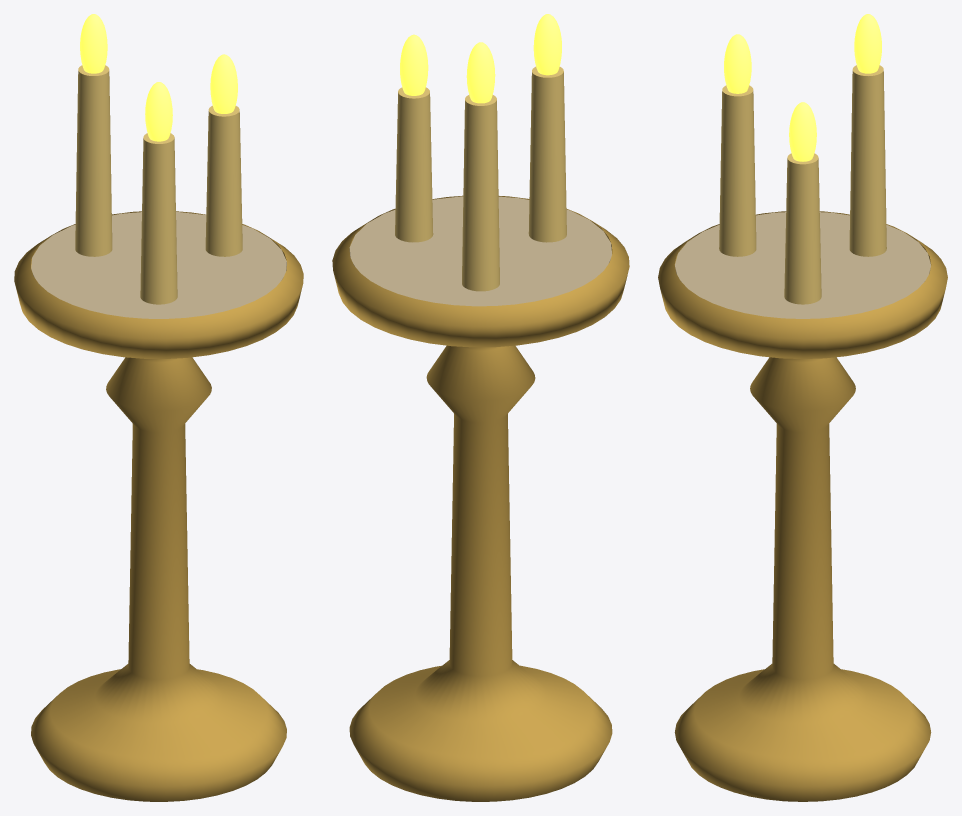
The model's file is candle-stand.glb.
3 views of the same model, side by side, from view 1: azimuth 30°, elevation 25°; view 2: azimuth 150°, elevation 25°; view 3: azimuth 270°, elevation 25° (orthographic). The views are drawn at different scales.
Visible parts, largest first — view 1: candle-stand, flame-2, flame-1, flame-0; view 2: candle-stand, flame-2, flame-1, flame-0; view 3: candle-stand, flame-1, flame-2, flame-0.
Boxes of the visible parts, box(x1,y1,x2,y2) form: candle-stand: box(14, 65, 303, 801); flame-2: box(80, 14, 107, 73); flame-1: box(145, 82, 172, 141); flame-0: box(210, 54, 237, 113); candle-stand: box(332, 66, 629, 801); flame-2: box(466, 42, 495, 103); flame-1: box(533, 14, 561, 75); flame-0: box(400, 34, 428, 95); candle-stand: box(658, 65, 947, 801); flame-1: box(724, 34, 751, 93); flame-2: box(854, 14, 881, 73); flame-0: box(789, 102, 816, 161).
Size of the model in its own units: 1.04 by 2.86 by 1.04.
